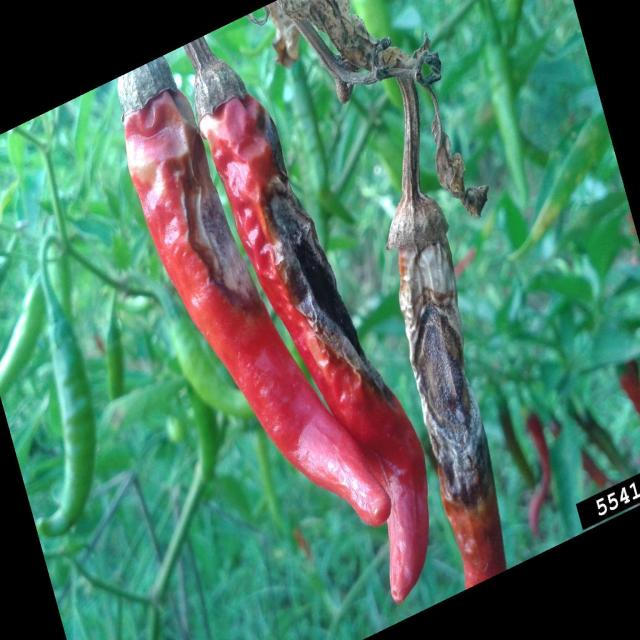Moko: (249, 156, 385, 406), (392, 225, 499, 510), (155, 160, 280, 318)
